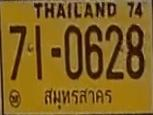0: (64, 25, 82, 78)
1: (35, 25, 43, 80)
2: (105, 25, 123, 79)
6: (84, 25, 102, 78)
7: (9, 26, 26, 76)
8: (126, 24, 144, 78)
SKN: (41, 86, 114, 111)
